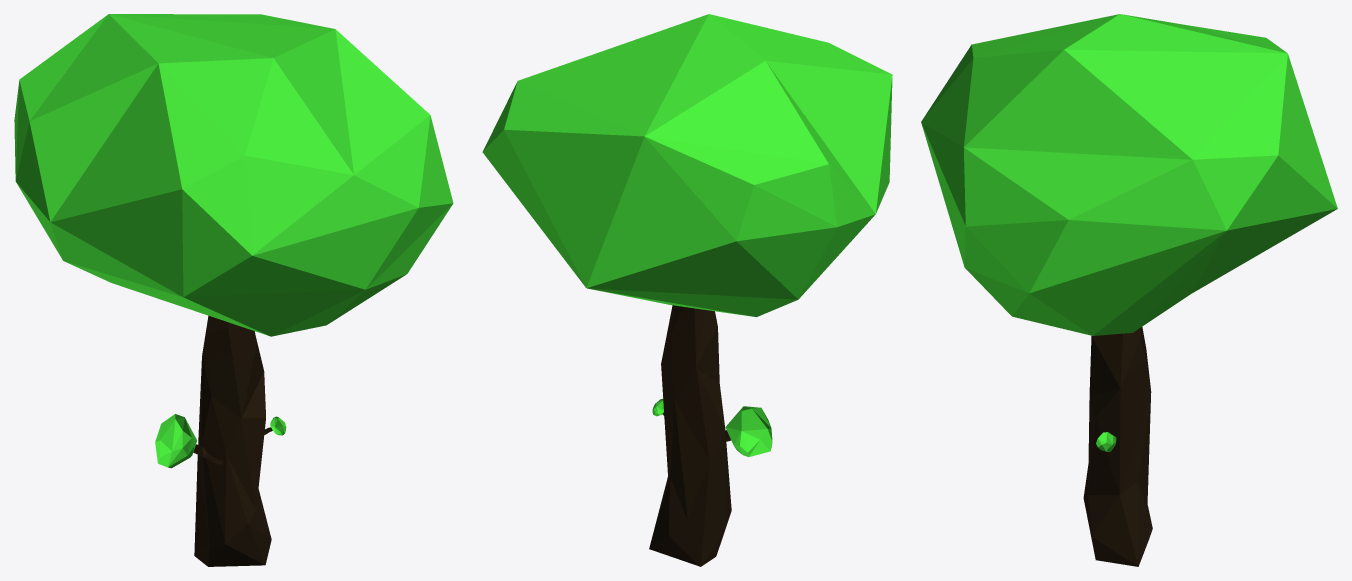
The model's file is TREE_02.fbx.
3 renders of one model, left to right at view 1: azimuth 30°, elevation 25°; view 2: azimuth 150°, elevation 25°; view 3: azimuth 270°, elevation 25°, orthographic. The views are drawn at different scales.
Visible parts, largest first — view 1: Cylinder034; view 2: Cylinder034; view 3: Cylinder034.
Part boxes in pixels (x1,y1,x2,y2): Cylinder034: (14,14,453,566); Cylinder034: (482,14,892,566); Cylinder034: (921,14,1337,566).
Bounding box in the file's own units: 0.7825 × 1.09 × 0.811.
